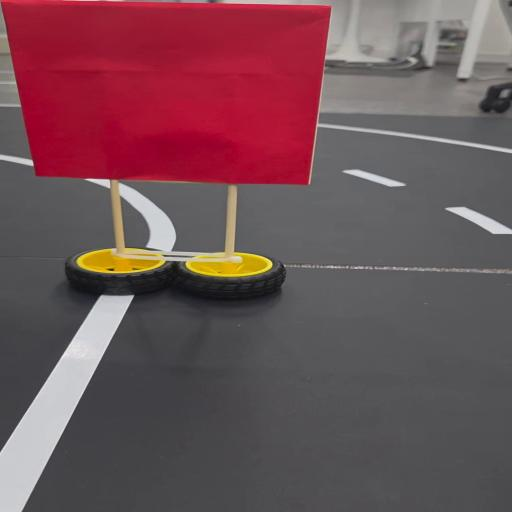Sign_A: (3, 3, 341, 302)
